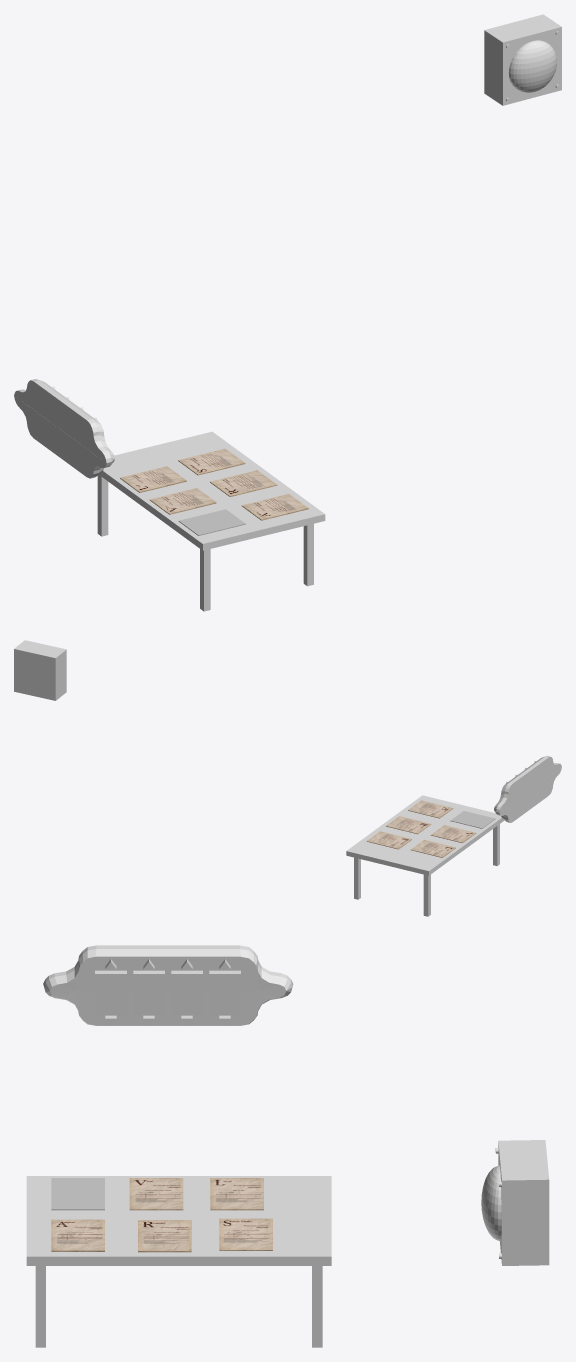
File: maquette-salle2.fbx
3 renders of one model, top to bottom at view 1: azimuth 30°, elevation 25°; view 2: azimuth 150°, elevation 25°; view 3: azimuth 270°, elevation 25°, orthographic. The views are drawn at different scales.
Visible parts, largest first — view 1: table, Cube.001, Cube.014, Sphere, nantes, saint-malo, vitre, laval, angers, rennes; view 2: table, Cube.014, Cube.001, vitre, rennes, nantes, saint-malo, angers, laval; view 3: table, Cube.001, Cube.014, vitre, nantes, laval, saint-malo, angers, rennes, Cube.002, Cube.006, Cube.009 (+4 smaller).
Boxes of the visible parts, left/top/right/bottom form: table: left=99, top=431, right=325, bottom=550; Cube.001: left=14, top=379, right=114, bottom=478; Cube.014: left=484, top=14, right=561, bottom=105; Sphere: left=508, top=40, right=556, bottom=92; nantes: left=178, top=509, right=245, bottom=535; saint-malo: left=178, top=448, right=245, bottom=475; vitre: left=149, top=488, right=216, bottom=514; laval: left=120, top=466, right=186, bottom=492; angers: left=241, top=494, right=308, bottom=520; rennes: left=210, top=470, right=277, bottom=496; table: left=346, top=795, right=504, bottom=875; Cube.014: left=14, top=640, right=66, bottom=700; Cube.001: left=494, top=755, right=561, bottom=822; vitre: left=430, top=825, right=476, bottom=843; rennes: left=386, top=816, right=431, bottom=834; nantes: left=450, top=811, right=495, bottom=828; saint-malo: left=366, top=831, right=411, bottom=849; angers: left=408, top=800, right=452, bottom=818; laval: left=411, top=840, right=455, bottom=857; table: left=26, top=1176, right=331, bottom=1265; Cube.001: left=43, top=945, right=293, bottom=1025; Cube.014: left=498, top=1140, right=549, bottom=1265; vitre: left=129, top=1178, right=183, bottom=1210; nantes: left=51, top=1178, right=104, bottom=1210; laval: left=210, top=1178, right=263, bottom=1210; saint-malo: left=219, top=1218, right=272, bottom=1250; angers: left=51, top=1219, right=104, bottom=1251; rennes: left=138, top=1220, right=191, bottom=1252; Cube.002: left=95, top=970, right=126, bottom=1014; Cube.006: left=133, top=970, right=164, bottom=1014; Cube.009: left=171, top=970, right=202, bottom=1014.
Size of the model in its own units: 1870 by 940 by 1002.
